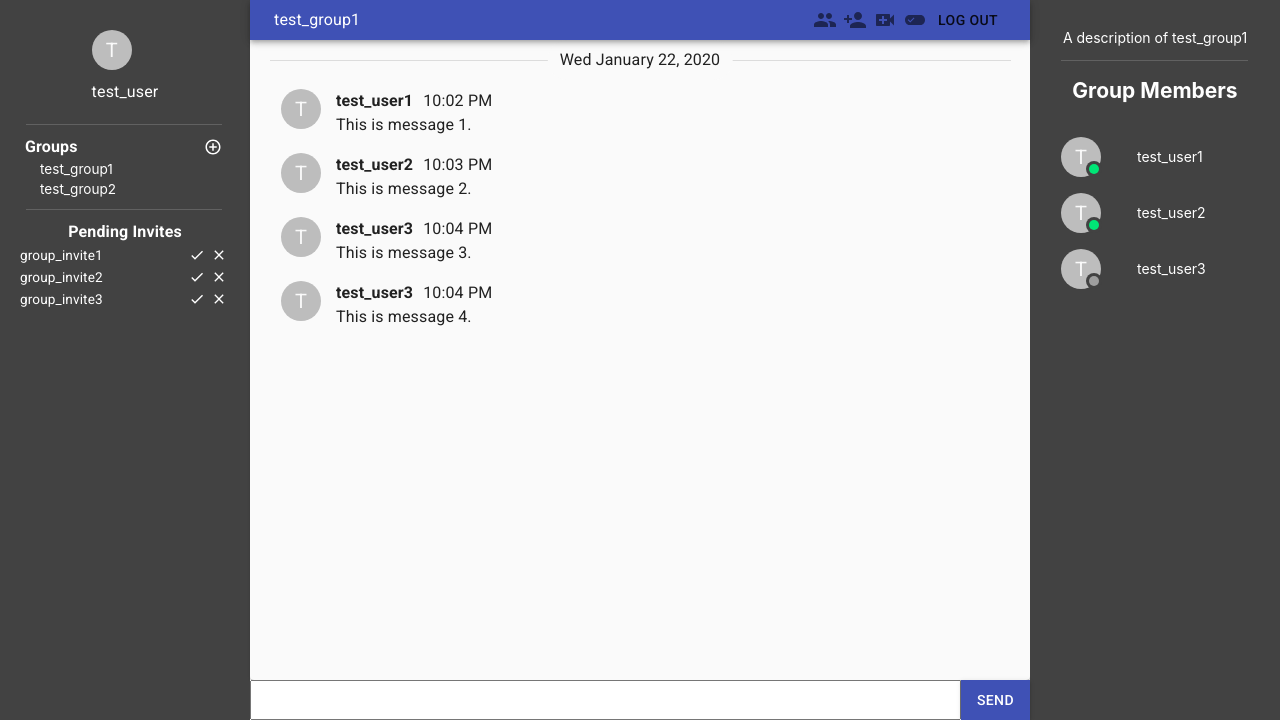
Test: <ChatPage/> when the screen size is large › should open add member container
The width and height of the screenshot is (1280, 720).
Click the button with test id "nav-addmem" at (855, 20), box [840,5,870,35]
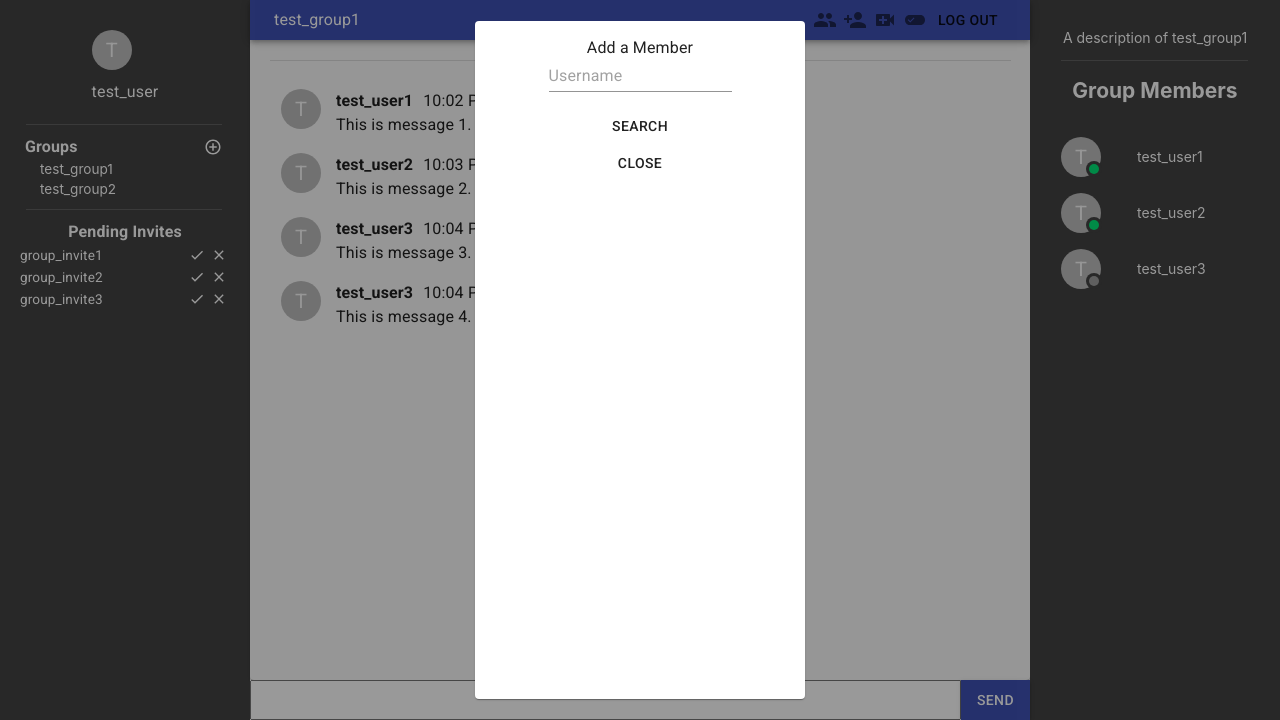
Expected: the form with test id "addmember-form" is shown, [548,60,732,144]
